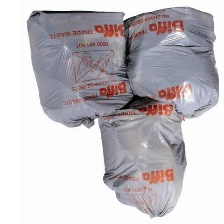plastic_bag: (21, 8, 136, 131), (89, 95, 191, 219), (125, 3, 222, 123)
